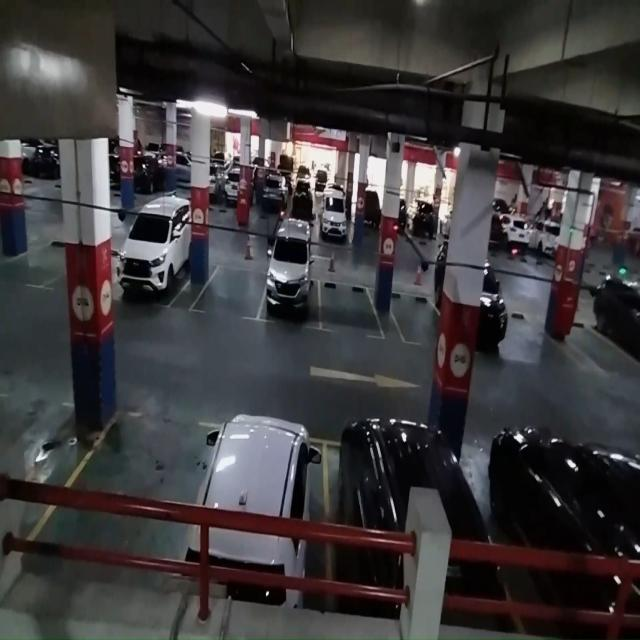empty: (61, 412, 196, 575), (195, 263, 263, 321), (318, 280, 380, 336), (389, 290, 438, 344)
occupied: (198, 416, 328, 585), (119, 200, 189, 311), (258, 254, 320, 330)
